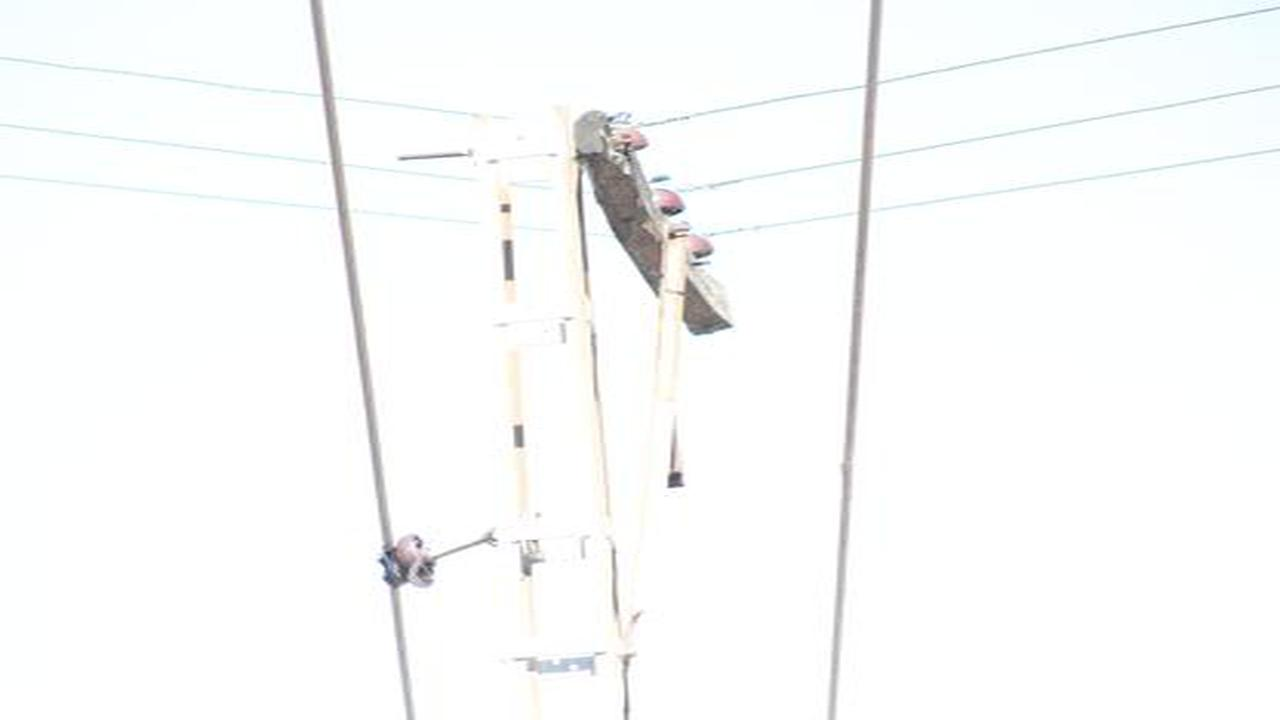insulator_pin: (385, 528, 436, 596), (649, 168, 689, 220), (612, 108, 648, 159)
